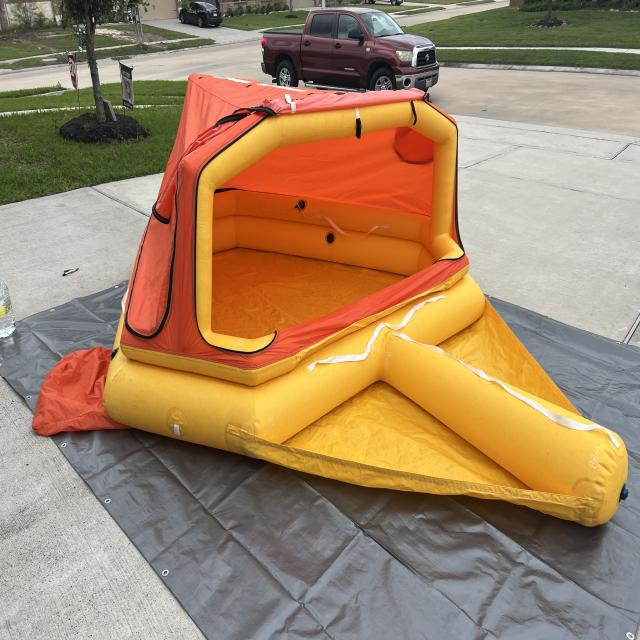Multi-person_life_raft: (30, 70, 630, 530)
